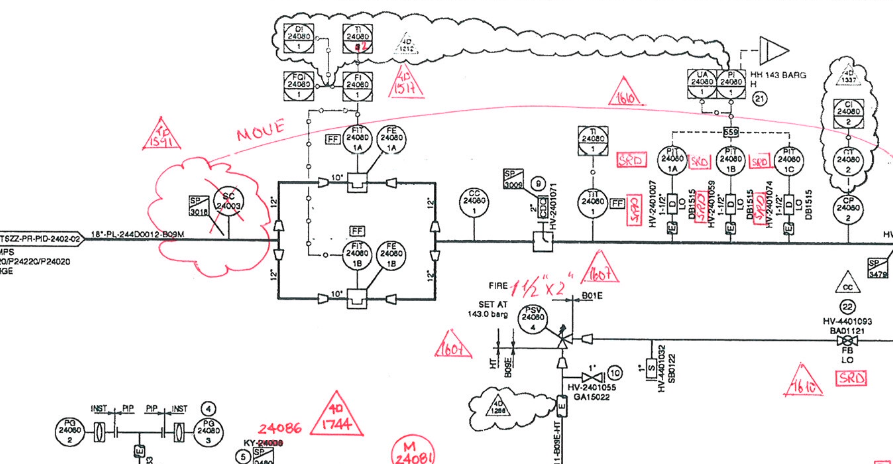Instrument: (572, 184, 611, 221), (456, 184, 495, 220), (829, 193, 868, 226), (374, 237, 408, 273), (655, 141, 689, 177), (52, 415, 89, 448), (772, 144, 806, 178), (831, 144, 866, 177), (375, 123, 408, 158), (341, 121, 374, 156), (713, 144, 747, 177), (516, 301, 548, 335), (340, 239, 374, 271), (191, 416, 226, 447)
Instrument-square: (574, 121, 613, 160), (339, 18, 376, 57), (278, 68, 318, 103), (280, 19, 316, 57), (830, 95, 866, 131), (341, 68, 376, 104), (715, 67, 748, 102), (684, 66, 717, 101)
